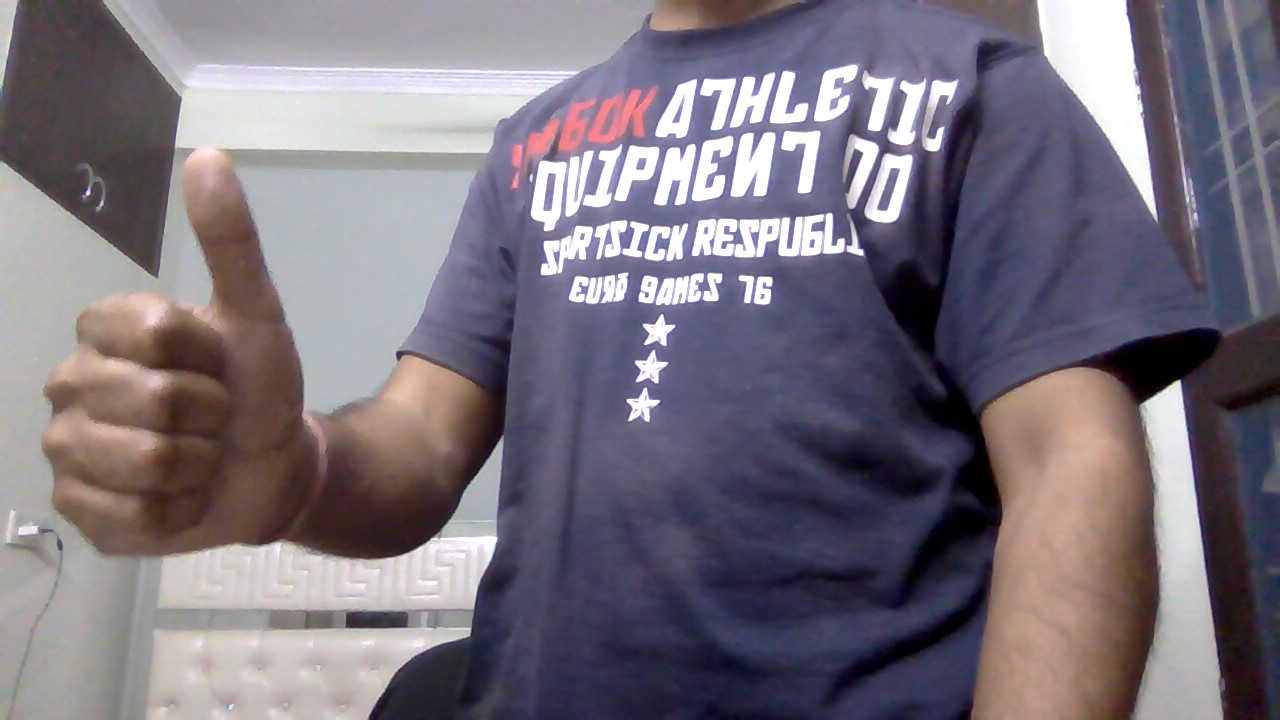Save: (30, 130, 334, 577)
